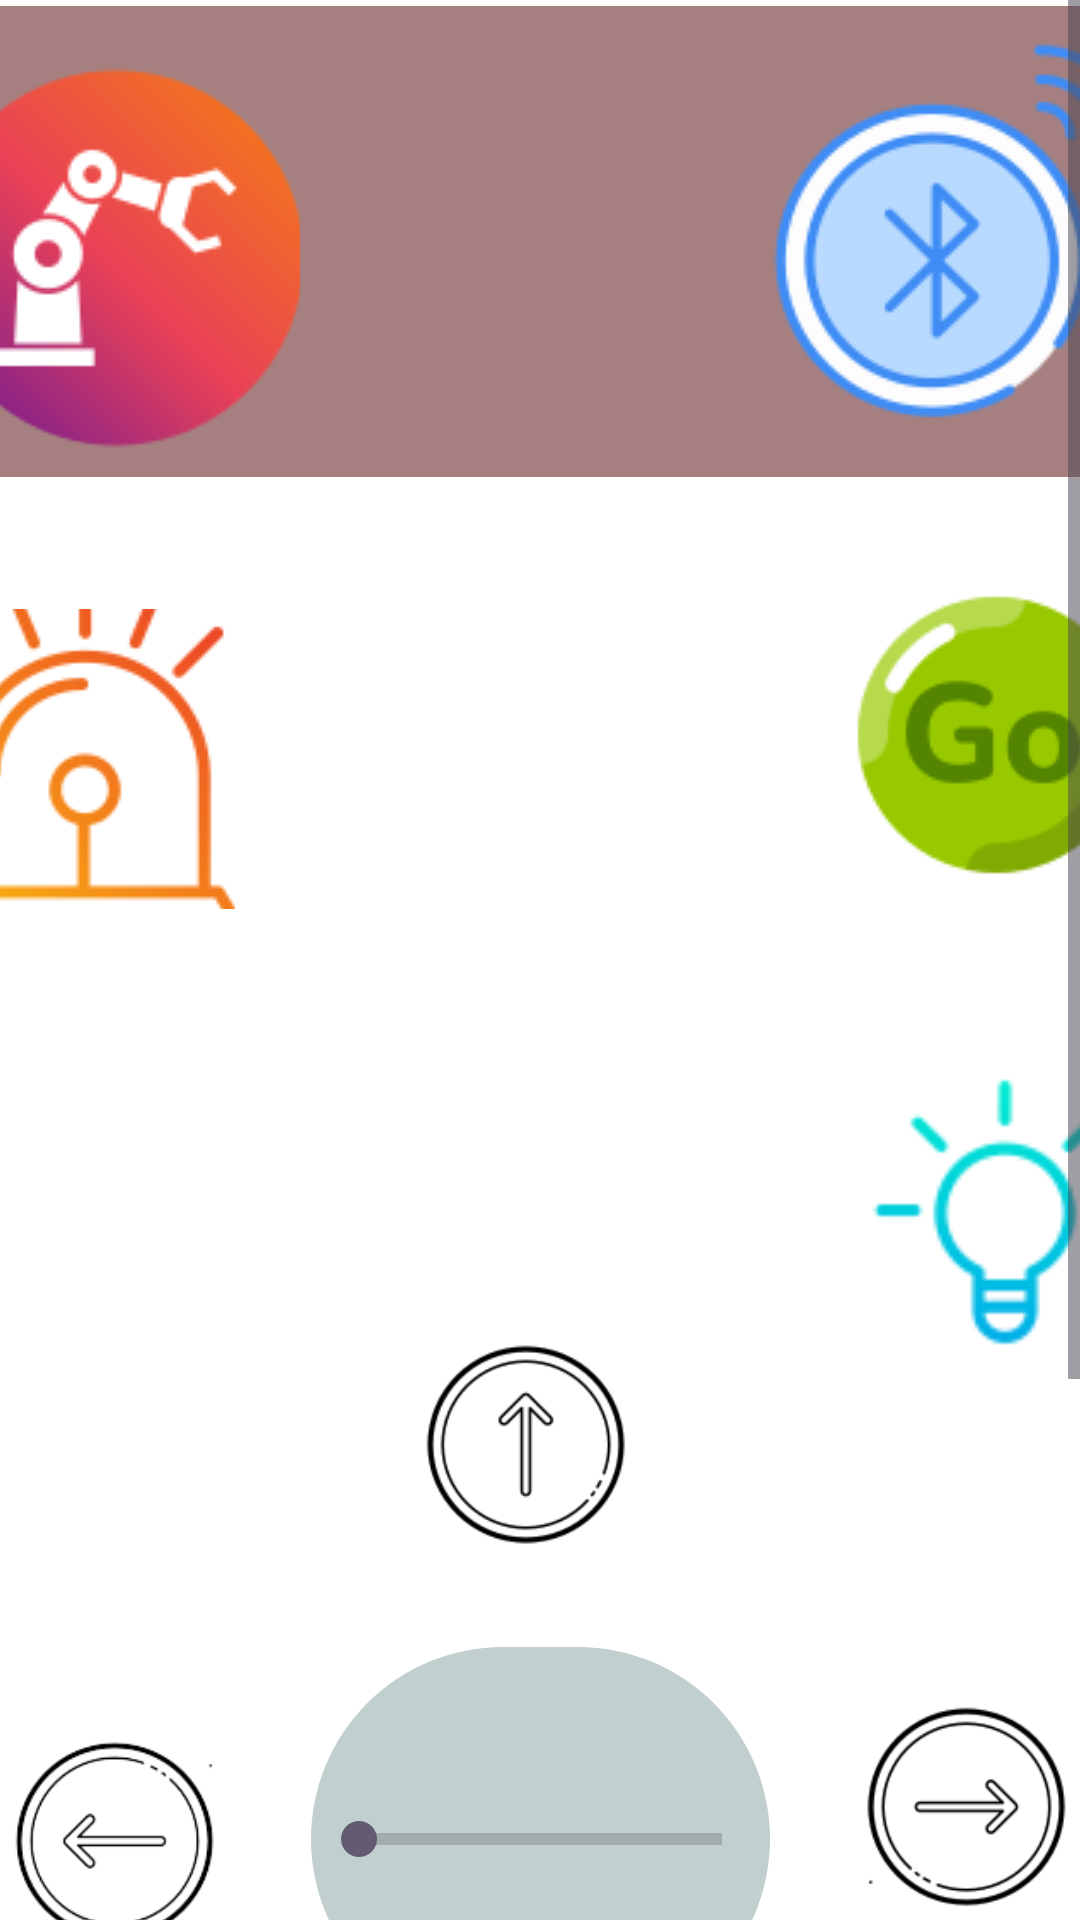

Where icons sit on this 1080 × 1920 app screen, as {"left": x1, "top": y1, "right": x2, "bottom": y2}:
arrowwhiteup: {"left": 426, "top": 1345, "right": 625, "bottom": 1544}
